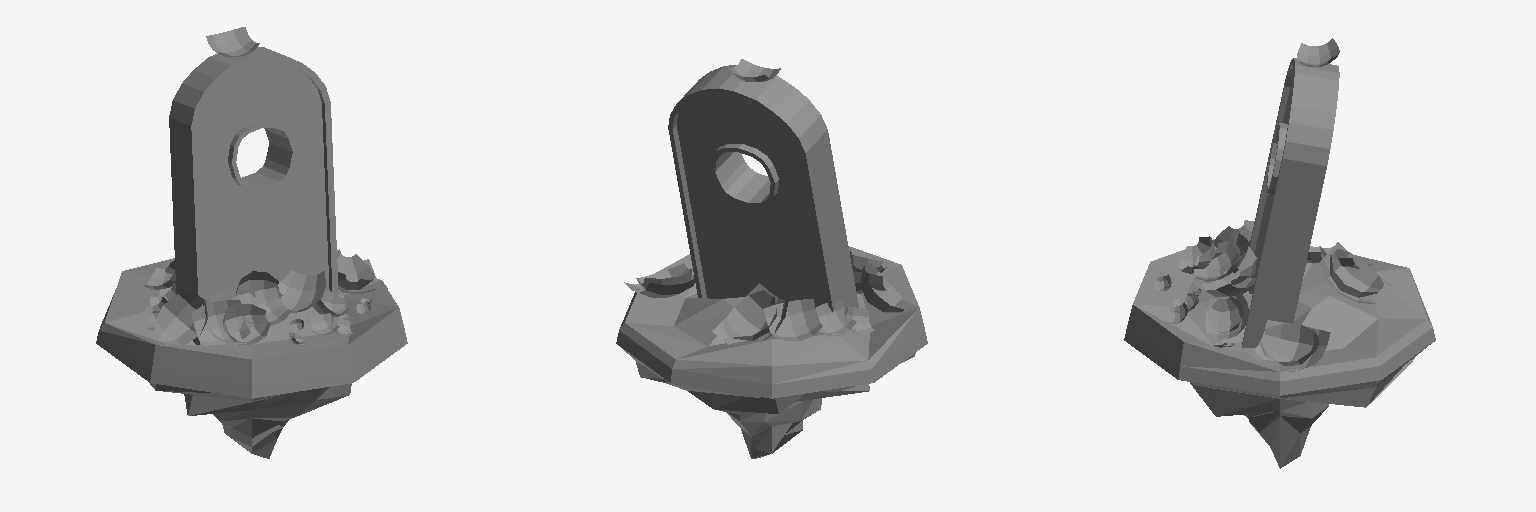
The model's file is Clement.obj.
The picture shows the model from 3 angles: view 1: azimuth 30°, elevation 25°; view 2: azimuth 150°, elevation 25°; view 3: azimuth 270°, elevation 25°; orthographic projection.
Visible parts, largest first — view 1: Box001, Cylinder001, Plane013, Plane019, Plane003, Plane017, Plane015, Plane039, Plane022, Plane045, Plane011; view 2: Box001, Cylinder001, Plane031, Plane033, Plane013, Plane042, Plane015, Plane016, Plane032, Plane041, Plane039; view 3: Cylinder001, Box001, Plane015, Plane031, Plane011, Plane017, Plane019, Plane022, Plane039, Plane016, Plane012, Plane045.
Part boxes in pixels (x1,y1,x2,y2): Box001: (169, 47, 338, 344); Cylinder001: (96, 258, 407, 458); Plane013: (155, 291, 207, 344); Plane019: (263, 270, 325, 312); Plane003: (192, 300, 250, 346); Plane017: (223, 304, 270, 343); Plane015: (337, 249, 374, 289); Plane039: (206, 27, 259, 56); Plane022: (232, 287, 292, 325); Plane045: (236, 271, 282, 298); Plane011: (316, 289, 348, 316); Box001: (668, 65, 858, 312); Cylinder001: (616, 246, 927, 458); Plane031: (724, 290, 776, 340); Plane033: (764, 299, 822, 340); Plane013: (860, 263, 908, 312); Plane042: (816, 300, 856, 336); Plane015: (636, 263, 692, 289); Plane016: (624, 275, 694, 298); Plane032: (712, 283, 788, 344); Plane041: (844, 307, 873, 334); Plane039: (728, 59, 780, 77); Cylinder001: (1124, 239, 1435, 468); Box001: (1242, 58, 1339, 348); Plane015: (1259, 324, 1318, 365); Plane031: (1330, 249, 1383, 297); Plane011: (1207, 296, 1243, 332); Plane017: (1178, 236, 1214, 273); Plane019: (1193, 270, 1255, 296); Plane022: (1193, 245, 1239, 279); Plane039: (1296, 38, 1339, 65); Plane016: (1248, 320, 1330, 371); Plane012: (1205, 292, 1248, 339); Plane045: (1231, 243, 1256, 284).
Size of the model in its own units: 21.34 by 31.67 by 21.67.